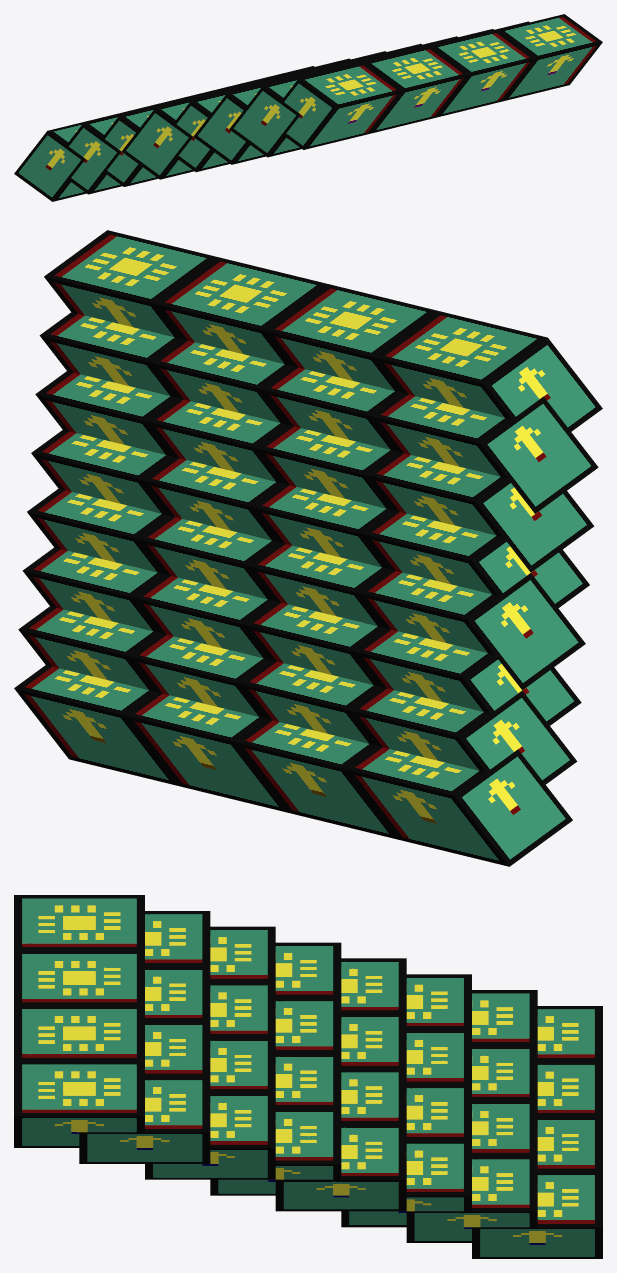
The model's file is Stairs_Down.dae.
3 views of the same model, one above another, from view 1: azimuth 30°, elevation 25°; view 2: azimuth 150°, elevation 25°; view 3: azimuth 270°, elevation 25° (orthographic). The views are drawn at different scales.
Visible parts, largest first — view 1: Stairs; view 2: Stairs; view 3: Stairs.
Boxes of the visible parts, box(x1,y1,x2,y2) form: Stairs: box(14, 14, 602, 201); Stairs: box(14, 230, 602, 866); Stairs: box(14, 895, 602, 1258).
Size of the model in its own units: 6.25 by 4.5 by 2.25.
Materials: 1 (1 with a texture image).
